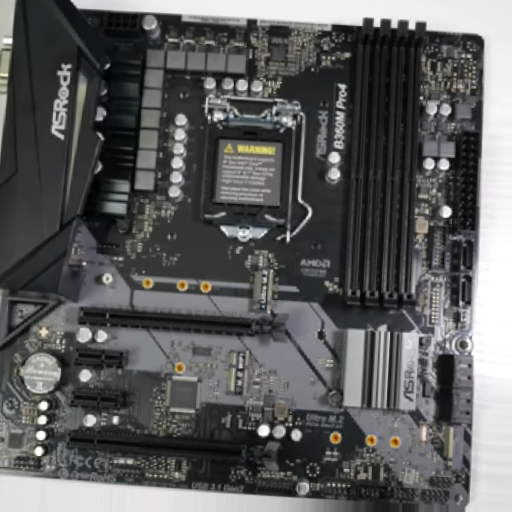CPU: (198, 94, 301, 240)
GPU: (65, 432, 282, 471), (79, 305, 292, 344)
MOTHERBOARD: (1, 12, 483, 506)
RAM: (340, 17, 427, 310)
SSD: (228, 350, 251, 396), (249, 268, 271, 308), (446, 428, 462, 466)
